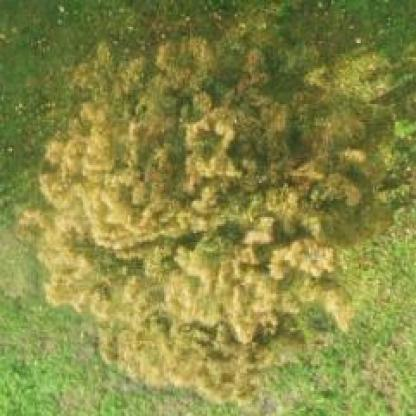Deciduous Tree: (8, 16, 394, 389)
